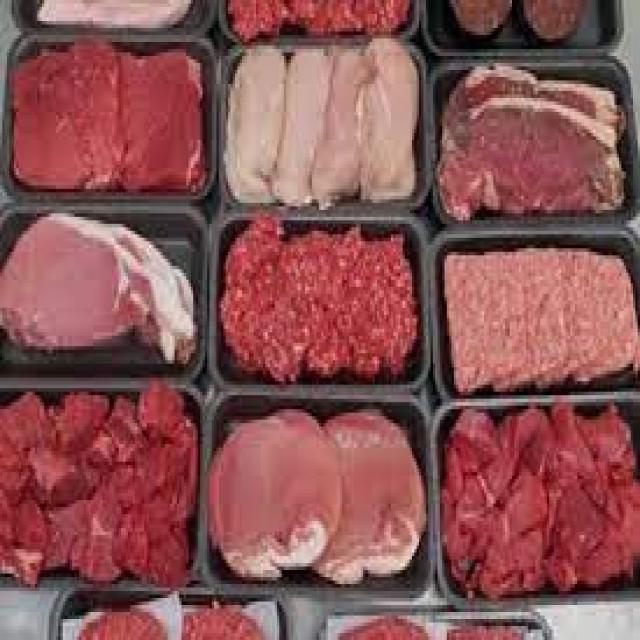Organik: (0, 1, 640, 600), (206, 390, 432, 592), (0, 200, 217, 386), (2, 385, 189, 592), (441, 410, 640, 596), (9, 26, 217, 192), (217, 210, 414, 384), (228, 33, 414, 212), (437, 241, 640, 398), (446, 81, 636, 222)
